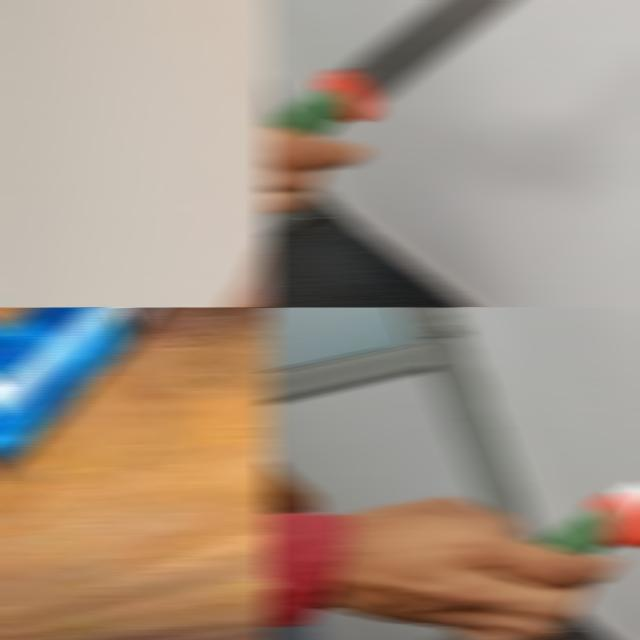Knife: (267, 0, 517, 136), (537, 482, 640, 555)
Knife_Handle: (316, 307, 640, 640), (22, 8, 274, 307)
